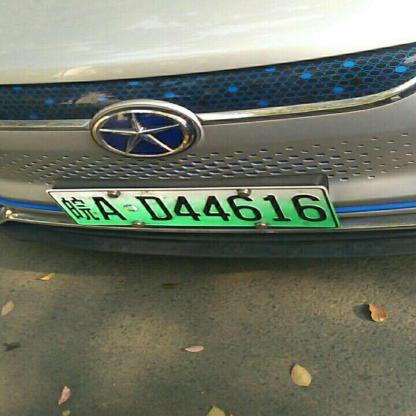lp: (49, 190, 79, 226)
